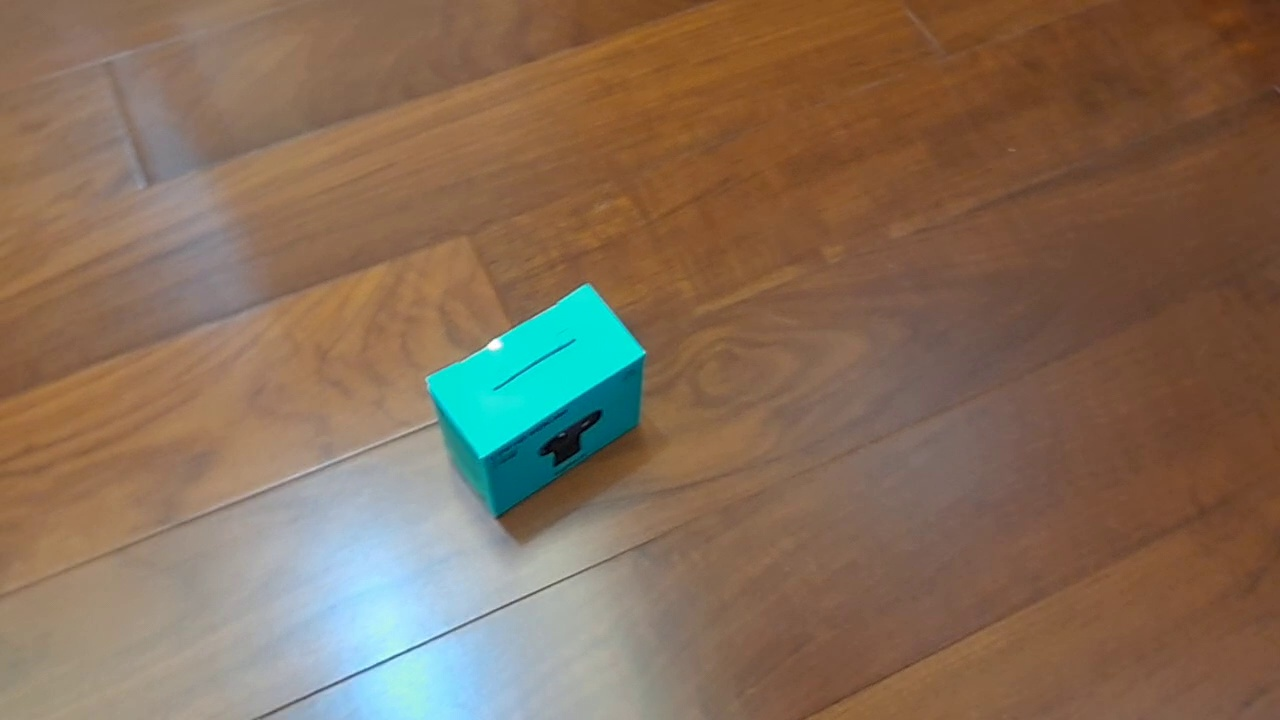webcam: (425, 282, 647, 520)
